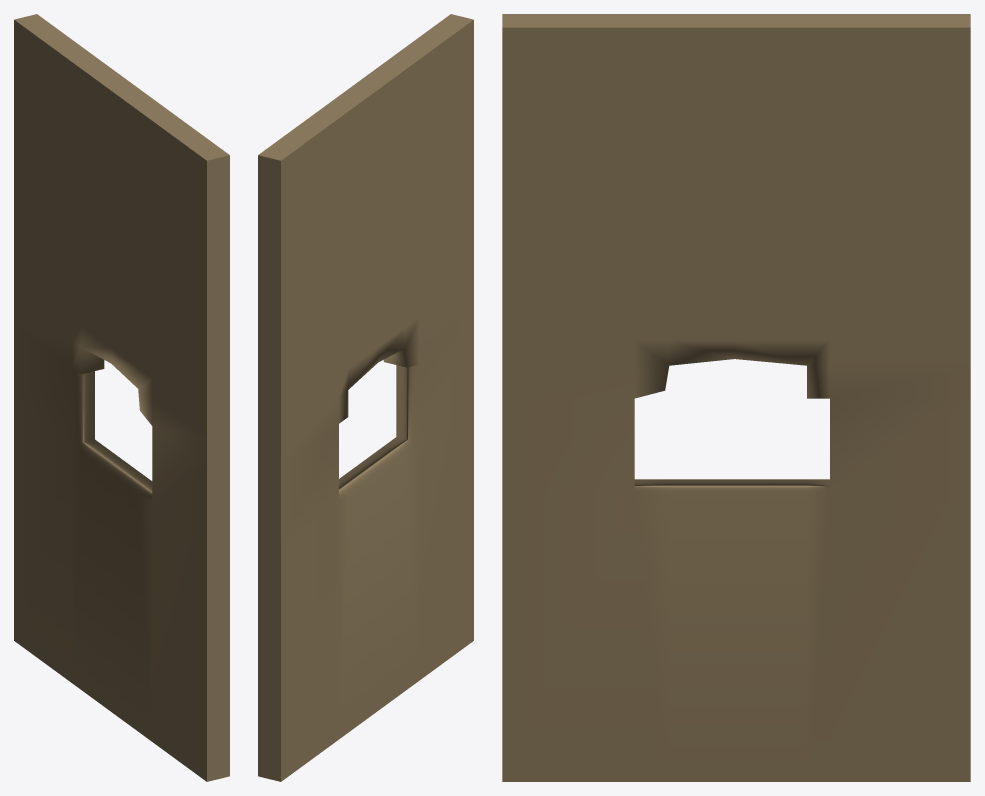
File: Wall_N04_Window_Small.fbx
3 renders of one model, left to right at view 1: azimuth 30°, elevation 25°; view 2: azimuth 150°, elevation 25°; view 3: azimuth 270°, elevation 25°, orthographic. The views are drawn at different scales.
Parts seen in each view (by area): view 1: Wall_N04_Window_Small; view 2: Wall_N04_Window_Small; view 3: Wall_N04_Window_Small.
Part boxes in pixels (x1,y1,x2,y2): Wall_N04_Window_Small: (14, 14, 229, 781); Wall_N04_Window_Small: (258, 14, 473, 781); Wall_N04_Window_Small: (502, 14, 970, 781).
Bounding box in the file's own units: 22.19 × 572 × 322.
